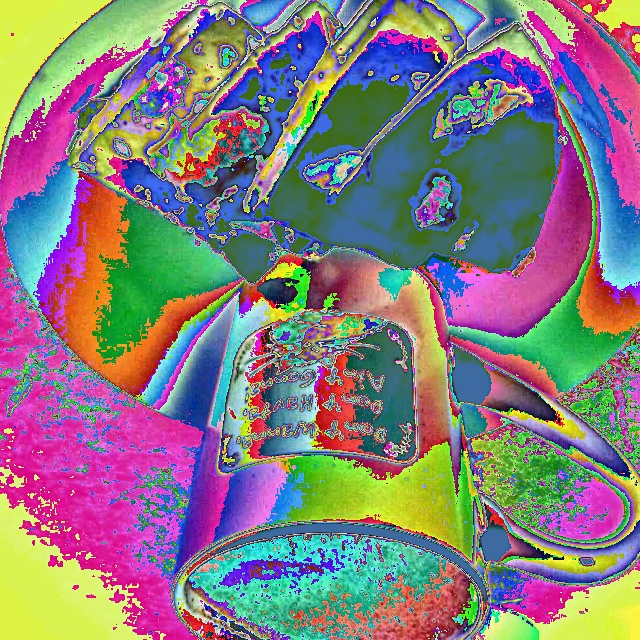background: (186, 106, 477, 639), (67, 0, 563, 287)
